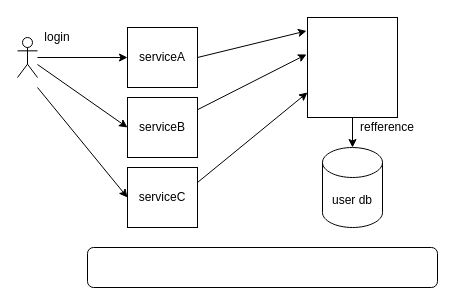
The diagram is 455 pixels wide and 305 high, and some of its shapes have lost their labels. Each missing label, with the centre of its shape:
"authenticator" belongs at (352,67).
"k8s cluster" belongs at (262,267).
